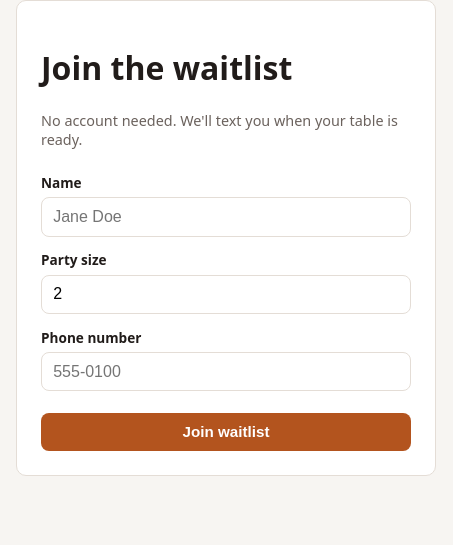
Test: GuestJoinPage › shows a validation error and does not submit when the name is missing
The image size is (453, 545).
In the field labelled "Phone number": (226, 372) [41, 352, 411, 391], type "555-0199"
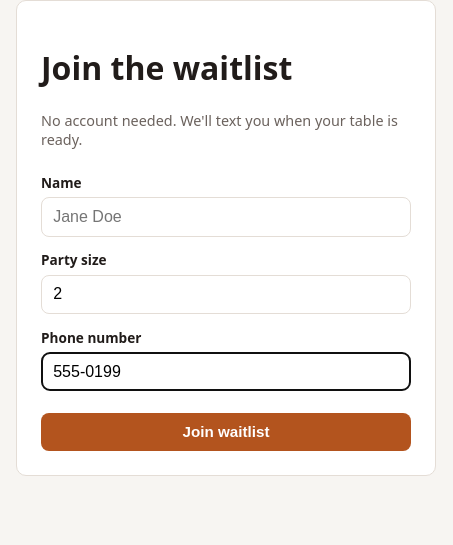
Click the button "Join waitlist": (226, 432) [41, 413, 411, 451]
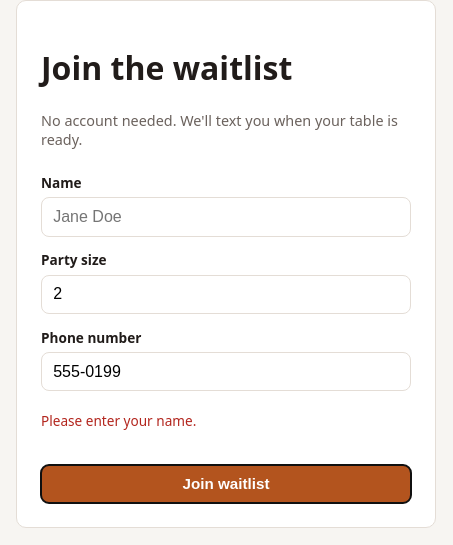
Now the message shows "enter your name", box [41, 411, 196, 430]
